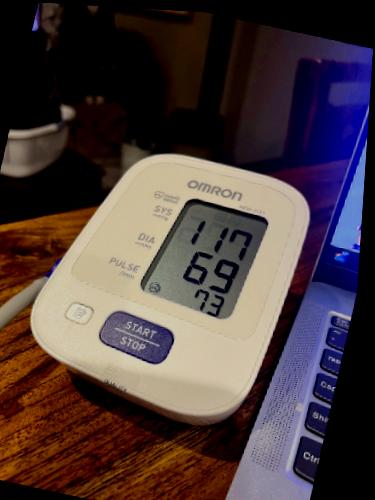bpm: (130, 180, 269, 323)
